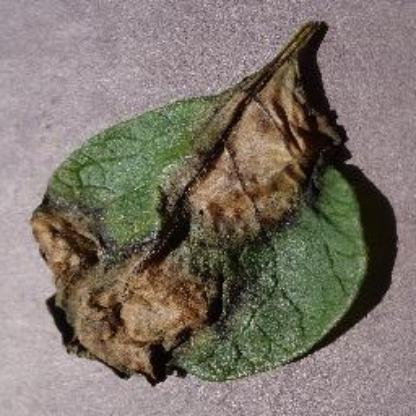Late-Blight: (33, 18, 377, 382)
